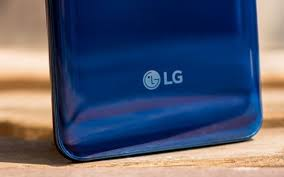lg: (43, 1, 268, 160)
